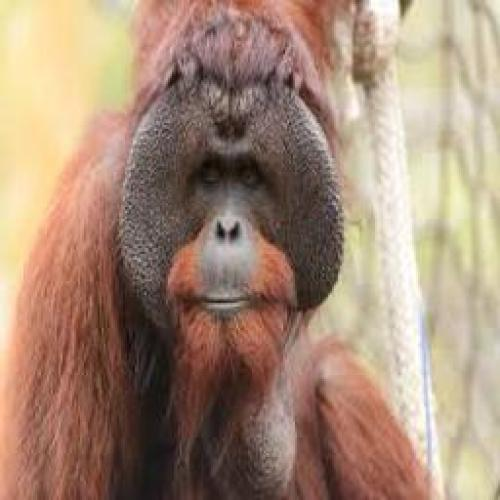orangutan-endangered: (25, 12, 439, 490)
